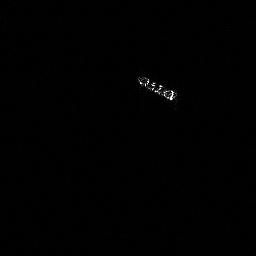ship: (134, 72, 180, 103)
